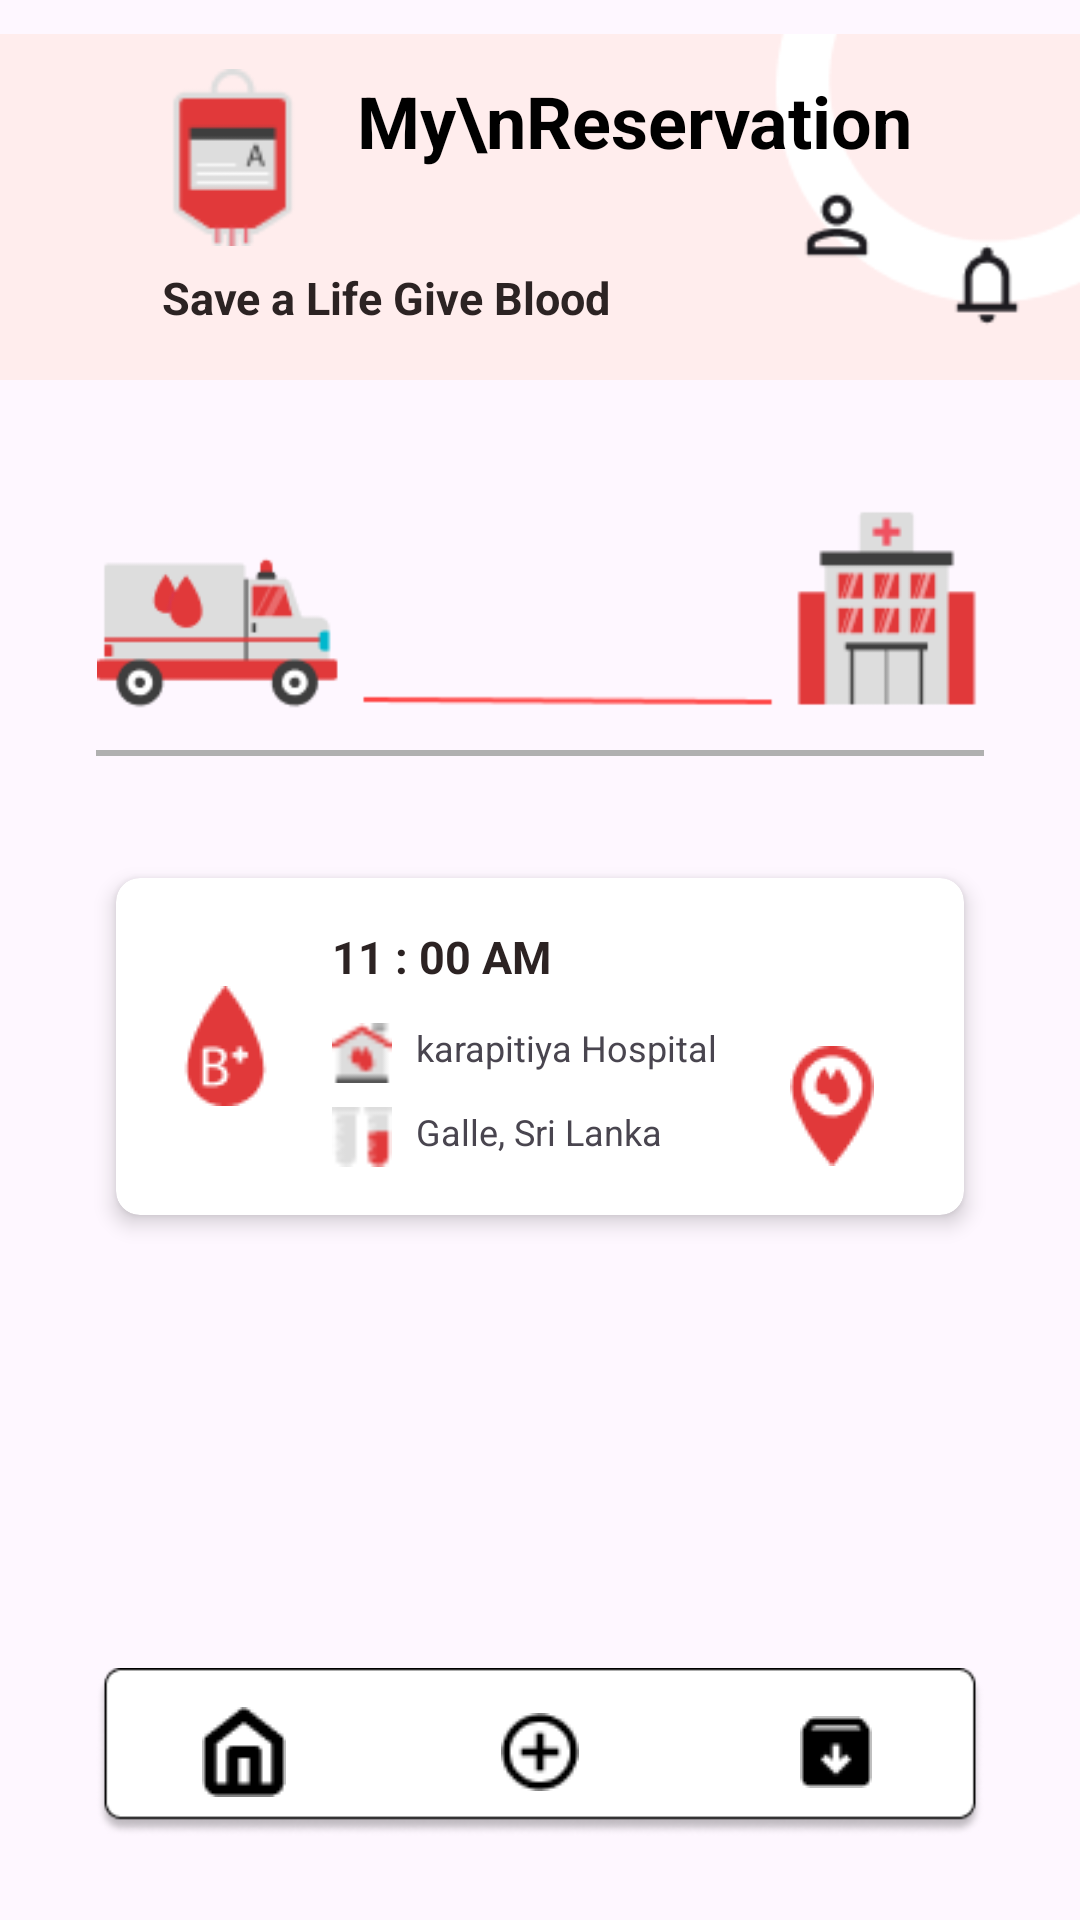

Icons on this 1080 × 1920 Android screen, each with its box as (x1, y1, x2, y2):
blood type positive: (185, 986, 266, 1106)
Home: (202, 1707, 286, 1797)
Notification Icon: (954, 246, 1020, 325)
Profile Icon: (806, 194, 868, 256)
